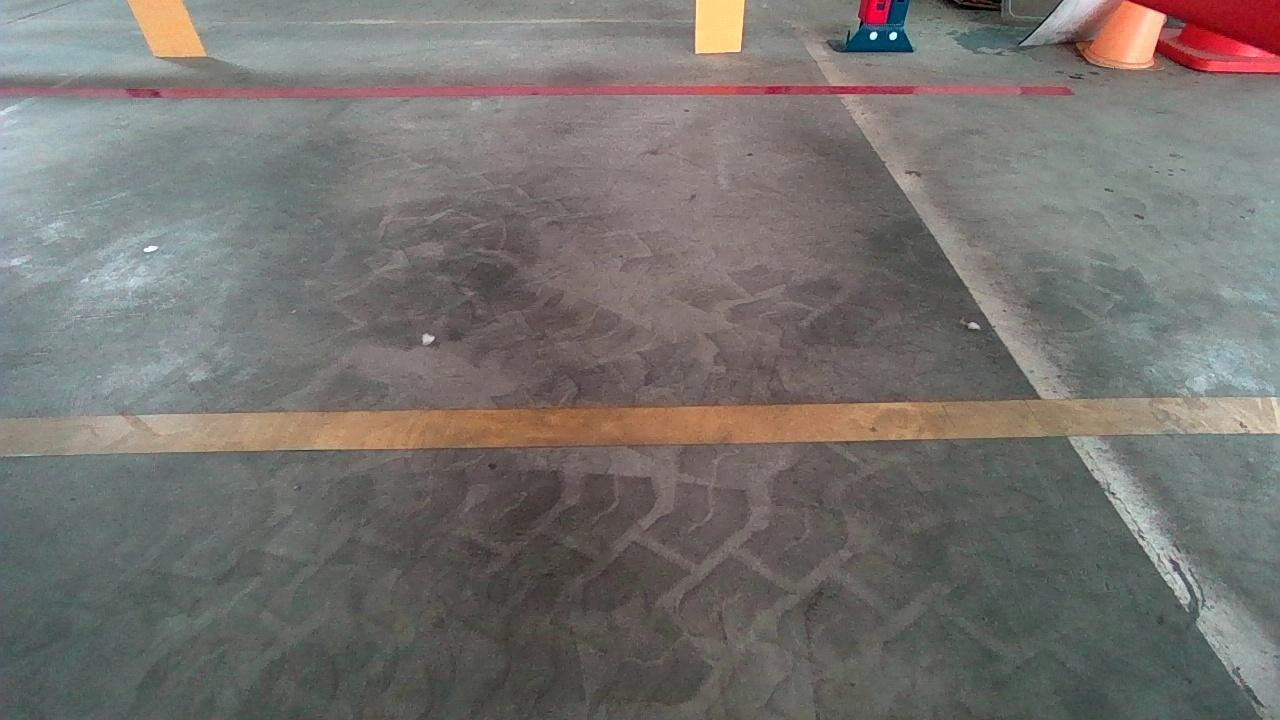red_line: (0, 80, 1072, 96)
yellow_line: (9, 392, 1280, 458)
